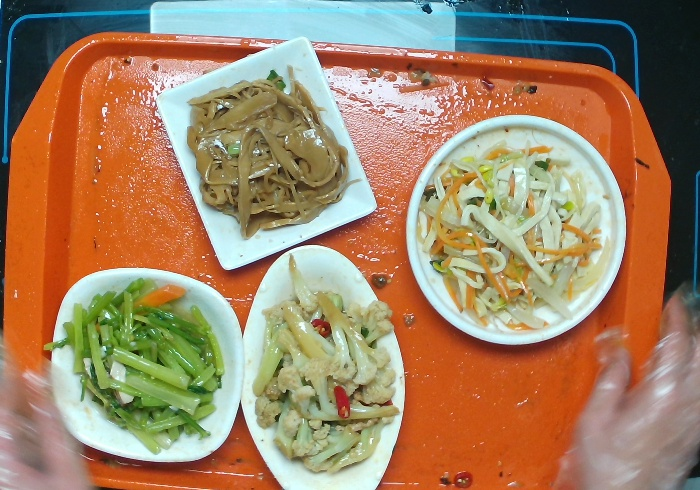HZYJPL-Si_Fang_Die: (152, 35, 378, 272)
HZYJPL-Si_Fang_Yuan_Die: (49, 266, 246, 463)
HZYJPL-Xiao_Yu_Die: (239, 243, 407, 490)
HZYJPL-Xiao_Yuan_Die: (404, 113, 628, 346)
